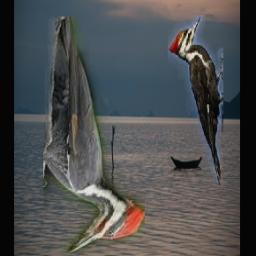Woodpecker: (44, 18, 146, 254), (169, 15, 224, 191)
